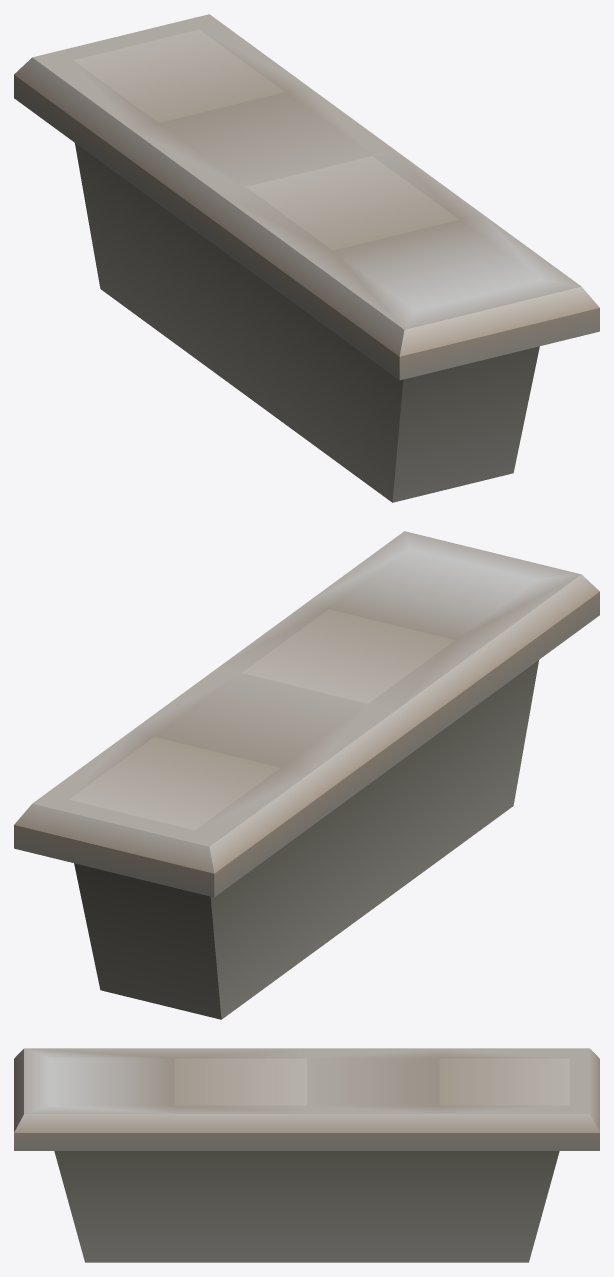
The model's file is FloatingThinPlatform.gltf.
The picture shows the model from 3 angles, top to bottom: view 1: azimuth 30°, elevation 25°; view 2: azimuth 150°, elevation 25°; view 3: azimuth 270°, elevation 25°; orthographic projection. The views are drawn at different scales.
Parts seen in each view (by area): view 1: FloatingThinPlatformMesh; view 2: FloatingThinPlatformMesh; view 3: FloatingThinPlatformMesh.
Boxes of the visible parts, bbox=[...] form: FloatingThinPlatformMesh: bbox=[14, 14, 599, 502]; FloatingThinPlatformMesh: bbox=[14, 531, 599, 1019]; FloatingThinPlatformMesh: bbox=[14, 1048, 599, 1262].
Size of the model in its own units: 3 by 2.99 by 10.
